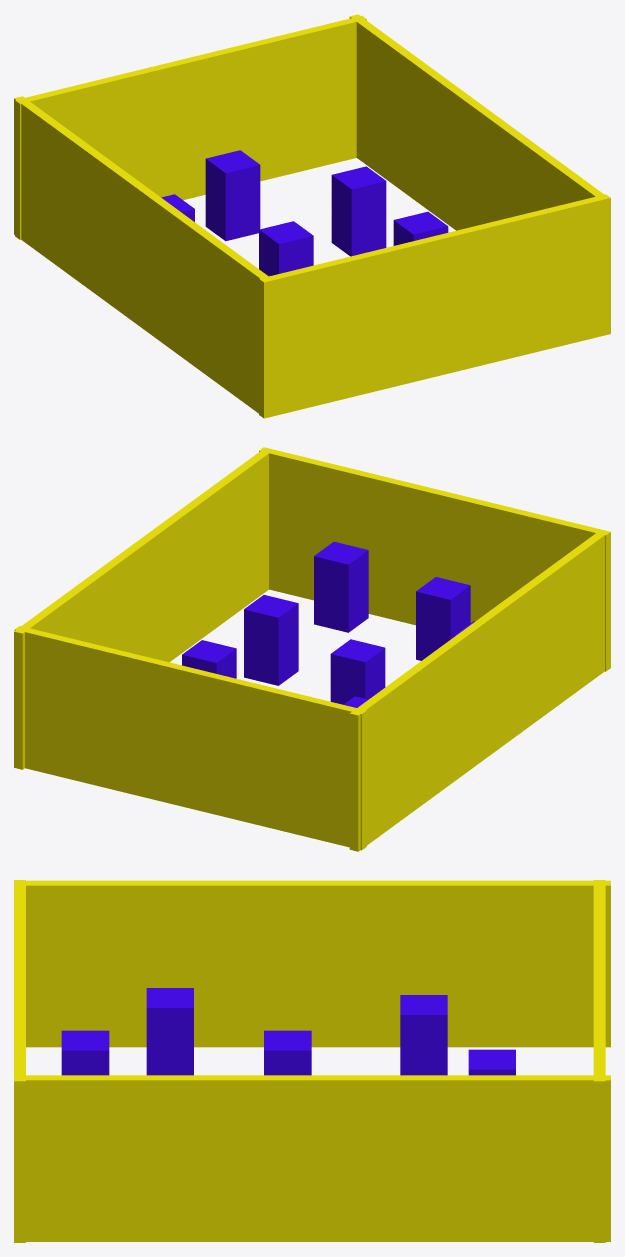
File: battlefield.FBX
3 views of the same model, one above another, from view 1: azimuth 30°, elevation 25°; view 2: azimuth 150°, elevation 25°; view 3: azimuth 270°, elevation 25° (orthographic). The views are drawn at different scales.
Parts seen in each view (by area): view 1: Box003, Box005, Box004, Box002, Box013, Box007, Box009, Box008; view 2: Box005, Box004, Box003, Box002, Box012, Box008, Box010, Box009, Box007; view 3: Box002, Box004, Box005, Box003, Box011, Box006, Box010, Box009, Box013.
Part boxes in pixels (bbox=[...]): Box003: bbox=[259, 194, 610, 418]; Box005: bbox=[15, 15, 366, 239]; Box004: bbox=[14, 96, 272, 413]; Box002: bbox=[349, 14, 607, 230]; Box013: bbox=[205, 150, 260, 241]; Box007: bbox=[331, 166, 386, 256]; Box009: bbox=[259, 221, 313, 275]; Box008: bbox=[393, 211, 448, 245]; Box005: bbox=[14, 626, 366, 850]; Box004: bbox=[349, 533, 604, 851]; Box003: bbox=[259, 447, 610, 671]; Box002: bbox=[14, 448, 272, 769]; Box012: bbox=[314, 541, 368, 632]; Box008: bbox=[244, 595, 298, 685]; Box010: bbox=[416, 577, 470, 660]; Box009: bbox=[330, 639, 385, 704]; Box007: bbox=[182, 640, 236, 678]; Box002: bbox=[16, 1075, 610, 1241]; Box004: bbox=[16, 880, 610, 1047]; Box005: bbox=[593, 880, 605, 1242]; Box003: bbox=[14, 880, 25, 1242]; Box011: bbox=[146, 988, 193, 1075]; Box006: bbox=[400, 995, 447, 1075]; Box010: bbox=[61, 1030, 109, 1075]; Box009: bbox=[264, 1030, 311, 1075]; Box013: bbox=[468, 1049, 515, 1075].
Bounding box in the file's own units: 4000 × 5018 × 1500.
Materials: 2 (2 with a texture image).
